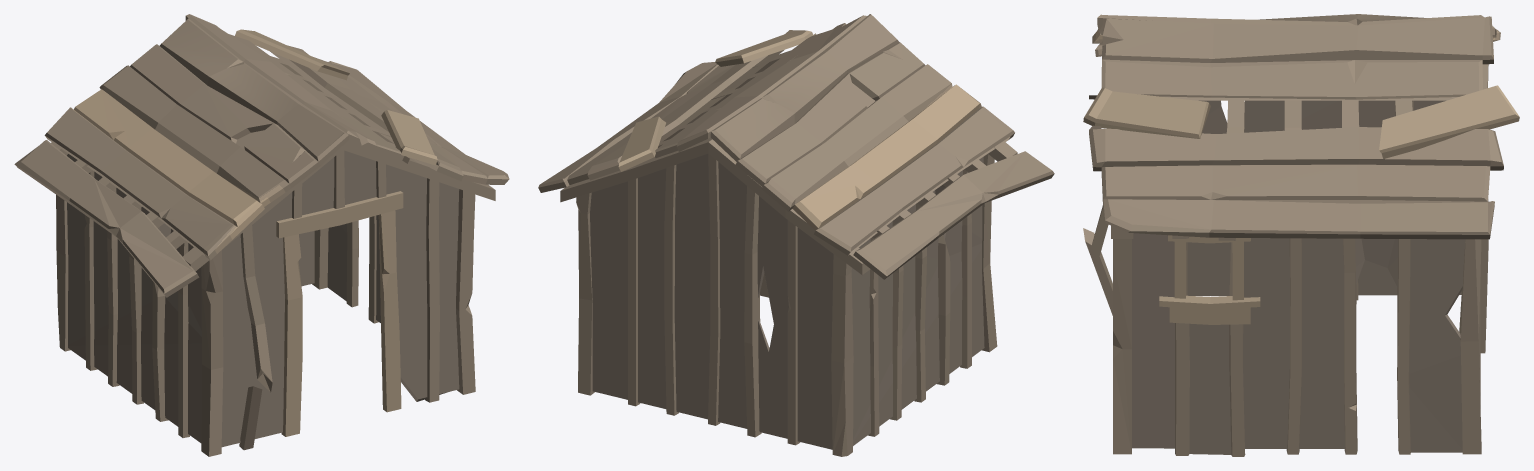
File: SM_Bld_Shack_03.fbx
The picture shows the model from 3 angles, left to right: view 1: azimuth 30°, elevation 25°; view 2: azimuth 150°, elevation 25°; view 3: azimuth 270°, elevation 25°; orthographic projection. The views are drawn at different scales.
Visible parts, largest first — view 1: SM_Bld_Shack_03; view 2: SM_Bld_Shack_03; view 3: SM_Bld_Shack_03.
Boxes of the visible parts, box(x1,y1,x2,y2) form: SM_Bld_Shack_03: box(14, 14, 509, 456); SM_Bld_Shack_03: box(538, 14, 1054, 456); SM_Bld_Shack_03: box(1083, 14, 1519, 456).
Bounding box in the file's own units: 447 × 359 × 390.
